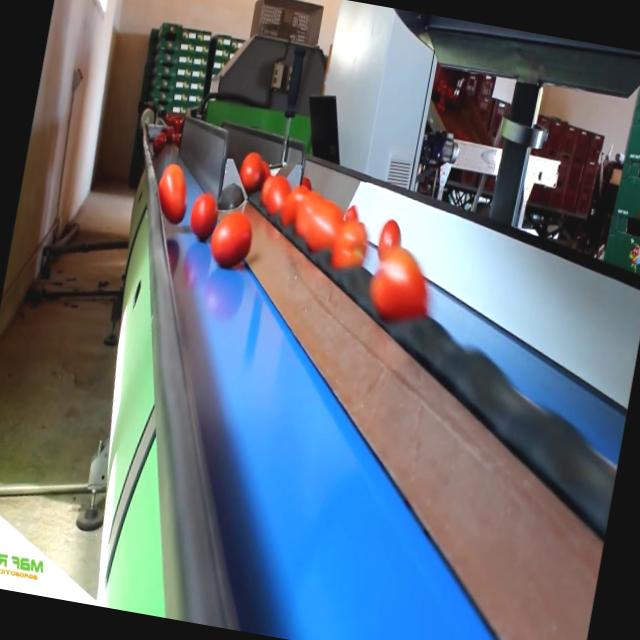Tomato: (367, 242, 436, 322), (152, 160, 192, 228), (208, 211, 254, 269), (330, 218, 374, 277), (299, 199, 344, 251), (187, 189, 220, 240), (282, 180, 313, 222), (265, 172, 291, 217), (238, 150, 266, 188), (377, 217, 405, 250), (152, 132, 168, 156)
